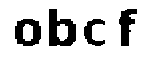b: (45, 6, 79, 51)
c: (82, 18, 108, 47)
f: (117, 5, 140, 51)
o: (12, 16, 41, 50)
